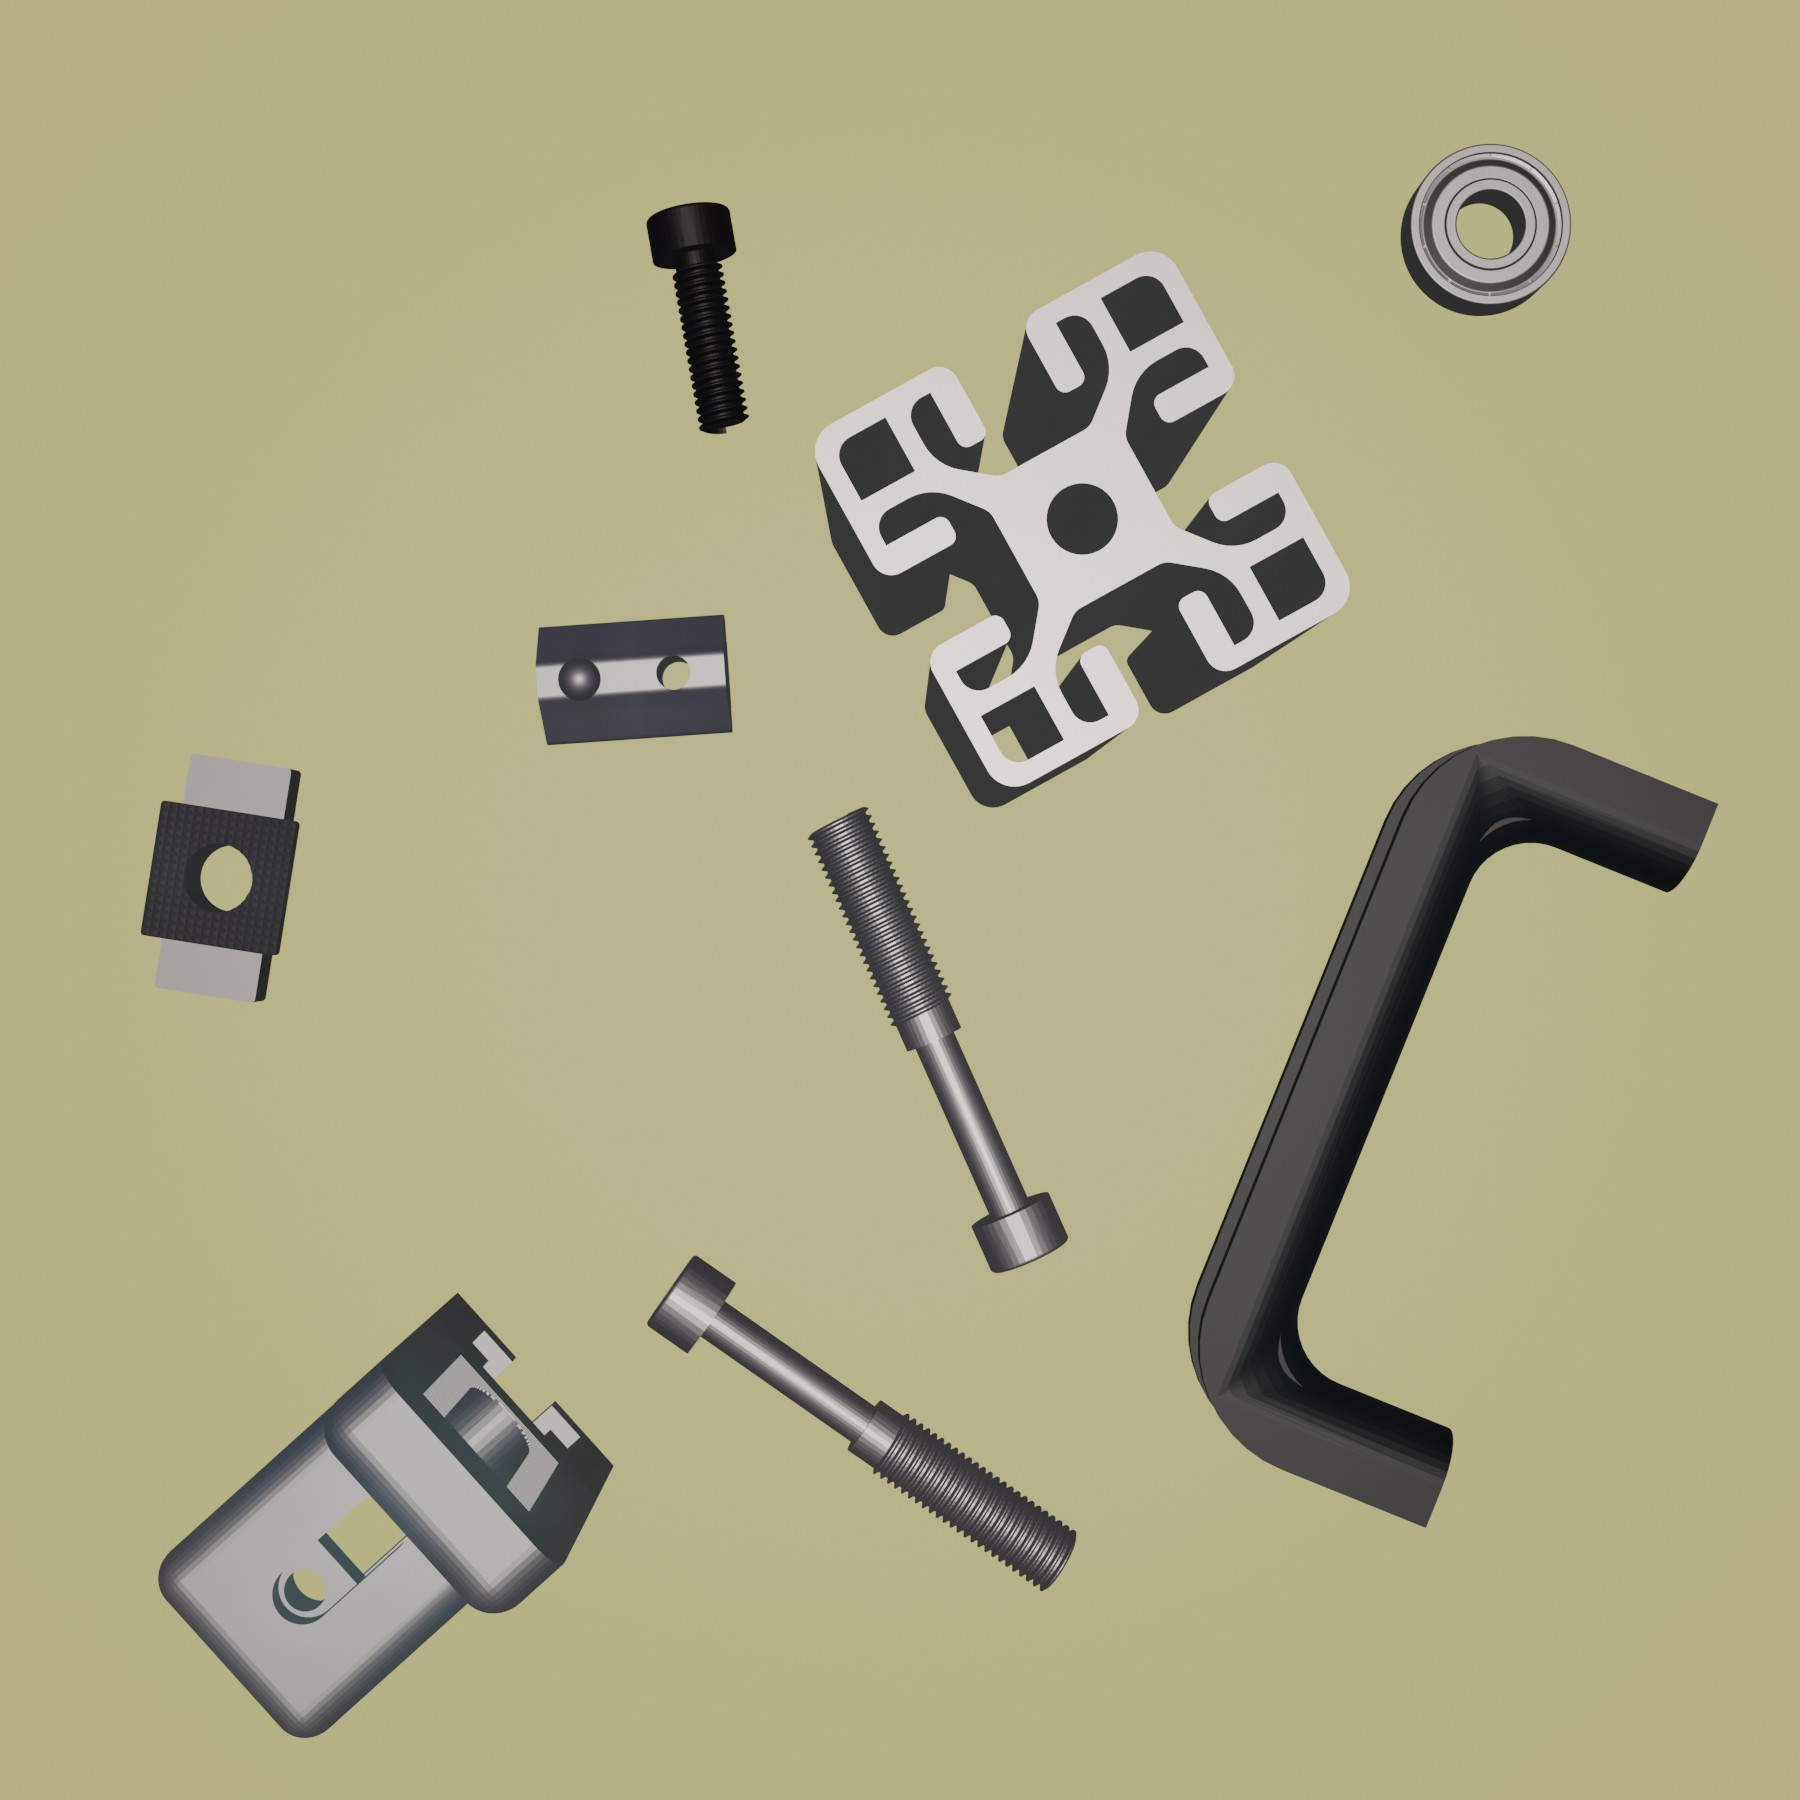Aluminium Extension: (813, 249, 1353, 809)
Ball Bearing: (1398, 138, 1574, 318)
Multiwinkel: (157, 1292, 616, 1741)
Pull Handle: (1187, 730, 1716, 1531)
Shoulder Socket Head Cap Screw: (646, 1254, 1081, 1592), (808, 799, 1071, 1274)
Socket Head Cap Screw: (645, 199, 753, 438)
T Nut Square: (137, 745, 305, 1007)
T Spring Nut: (532, 608, 737, 750)
